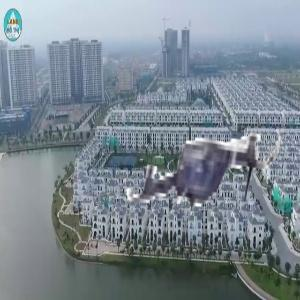drone: (120, 90, 283, 253)
